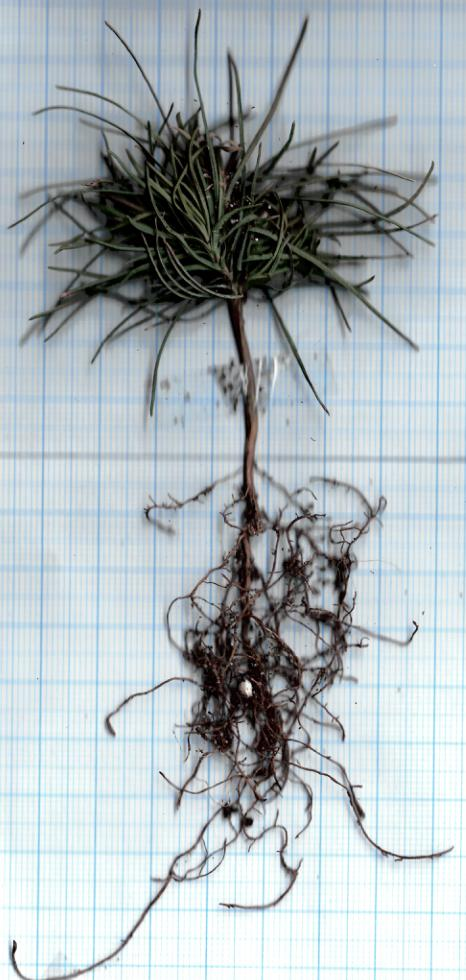flower: (0, 0, 455, 311)
root: (1, 455, 457, 980)
stem: (217, 305, 262, 462)
